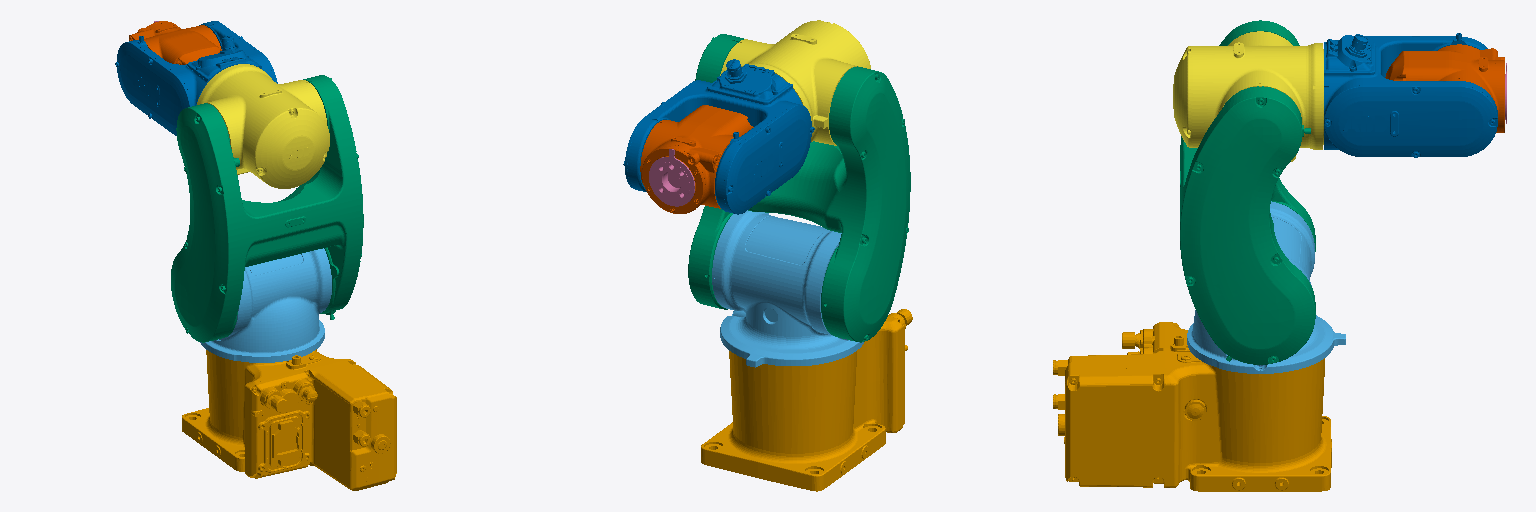
robot.urdf — IRB1010_1.5kg-370:
<?xml version="1.0" ?>
<robot name="IRB1010_1.5kg-370">

<link name="base_link">
  <inertial>
    <origin xyz="0.007414978279902329 -0.0483132373536217 0.05950830185044145" rpy="0 0 0"/>
    <mass value="20.582962138924515"/>
    <inertia ixx="0.107334" iyy="0.048566" izz="0.105477" ixy="0.014261" iyz="0.000746" ixz="0.000141"/>
  </inertial>
  <visual>
    <origin xyz="0 0 0" rpy="0 0 0"/>
    <geometry>
      <mesh filename="package://IRB1010_1.5kg-370_description/meshes/base_link.stl" scale="0.001 0.001 0.001"/>
    </geometry>
    <material name="silver"/>
  </visual>
  <collision>
    <origin xyz="0 0 0" rpy="0 0 0"/>
    <geometry>
      <mesh filename="package://IRB1010_1.5kg-370_description/meshes/base_link.stl" scale="0.001 0.001 0.001"/>
    </geometry>
  </collision>
</link>

<link name="link_1_1">
  <inertial>
    <origin xyz="-0.00024503574590826625 -0.002583028745339163 0.052650029534533266" rpy="0 0 0"/>
    <mass value="9.047546395498204"/>
    <inertia ixx="0.015477" iyy="0.01918" izz="0.016762" ixy="2.4e-05" iyz="-0.000571" ixz="9.9e-05"/>
  </inertial>
  <visual>
    <origin xyz="-0.0 -0.0 -0.123" rpy="0 0 0"/>
    <geometry>
      <mesh filename="package://IRB1010_1.5kg-370_description/meshes/link_1_1.stl" scale="0.001 0.001 0.001"/>
    </geometry>
    <material name="silver"/>
  </visual>
  <collision>
    <origin xyz="-0.0 -0.0 -0.123" rpy="0 0 0"/>
    <geometry>
      <mesh filename="package://IRB1010_1.5kg-370_description/meshes/link_1_1.stl" scale="0.001 0.001 0.001"/>
    </geometry>
  </collision>
</link>

<link name="link_2_1">
  <inertial>
    <origin xyz="0.05849881579894817 -0.02078814771909749 0.07983472523577334" rpy="0 0 0"/>
    <mass value="14.853907261172468"/>
    <inertia ixx="0.072736" iyy="0.128501" izz="0.079727" ixy="3.1e-05" iyz="0.002707" ixz="-0.000418"/>
  </inertial>
  <visual>
    <origin xyz="0.0587 -0.0 -0.19" rpy="0 0 0"/>
    <geometry>
      <mesh filename="package://IRB1010_1.5kg-370_description/meshes/link_2_1.stl" scale="0.001 0.001 0.001"/>
    </geometry>
    <material name="silver"/>
  </visual>
  <collision>
    <origin xyz="0.0587 -0.0 -0.19" rpy="0 0 0"/>
    <geometry>
      <mesh filename="package://IRB1010_1.5kg-370_description/meshes/link_2_1.stl" scale="0.001 0.001 0.001"/>
    </geometry>
  </collision>
</link>

<link name="link_3_1">
  <inertial>
    <origin xyz="-0.06095361971698747 -0.006982971041224326 -0.00021860314485278032" rpy="0 0 0"/>
    <mass value="8.779035232978092"/>
    <inertia ixx="0.016453" iyy="0.012623" izz="0.019253" ixy="-1.7e-05" iyz="4.3e-05" ixz="1.6e-05"/>
  </inertial>
  <visual>
    <origin xyz="-0.0608 -0.0 -0.375" rpy="0 0 0"/>
    <geometry>
      <mesh filename="package://IRB1010_1.5kg-370_description/meshes/link_3_1.stl" scale="0.001 0.001 0.001"/>
    </geometry>
    <material name="silver"/>
  </visual>
  <collision>
    <origin xyz="-0.0608 -0.0 -0.375" rpy="0 0 0"/>
    <geometry>
      <mesh filename="package://IRB1010_1.5kg-370_description/meshes/link_3_1.stl" scale="0.001 0.001 0.001"/>
    </geometry>
  </collision>
</link>

<link name="link_4_1">
  <inertial>
    <origin xyz="0.00124114839469878 0.05600882688570899 0.0017302844145893337" rpy="0 0 0"/>
    <mass value="5.919741496574066"/>
    <inertia ixx="0.013488" iyy="0.011685" izz="0.019333" ixy="-0.000232" iyz="0.000248" ixz="1e-06"/>
  </inertial>
  <visual>
    <origin xyz="-0.0 -0.0553 -0.375" rpy="0 0 0"/>
    <geometry>
      <mesh filename="package://IRB1010_1.5kg-370_description/meshes/link_4_1.stl" scale="0.001 0.001 0.001"/>
    </geometry>
    <material name="silver"/>
  </visual>
  <collision>
    <origin xyz="-0.0 -0.0553 -0.375" rpy="0 0 0"/>
    <geometry>
      <mesh filename="package://IRB1010_1.5kg-370_description/meshes/link_4_1.stl" scale="0.001 0.001 0.001"/>
    </geometry>
  </collision>
</link>

<link name="link_5_1">
  <inertial>
    <origin xyz="0.03963987652528898 -0.012652257482868745 0.00014144085383144267" rpy="0 0 0"/>
    <mass value="3.9451158074034915"/>
    <inertia ixx="0.004666" iyy="0.003309" izz="0.00489" ixy="-2.3e-05" iyz="-2.3e-05" ixz="1.6e-05"/>
  </inertial>
  <visual>
    <origin xyz="0.0405 -0.185 -0.375" rpy="0 0 0"/>
    <geometry>
      <mesh filename="package://IRB1010_1.5kg-370_description/meshes/link_5_1.stl" scale="0.001 0.001 0.001"/>
    </geometry>
    <material name="silver"/>
  </visual>
  <collision>
    <origin xyz="0.0405 -0.185 -0.375" rpy="0 0 0"/>
    <geometry>
      <mesh filename="package://IRB1010_1.5kg-370_description/meshes/link_5_1.stl" scale="0.001 0.001 0.001"/>
    </geometry>
  </collision>
</link>

<link name="link_6_1">
  <inertial>
    <origin xyz="-9.780505496374406e-15 -0.0032215722071038955 -2.4780057653162046e-05" rpy="0 0 0"/>
    <mass value="0.18055793093363143"/>
    <inertia ixx="2.8e-05" iyy="4.4e-05" izz="2.8e-05" ixy="0.0" iyz="-0.0" ixz="0.0"/>
  </inertial>
  <visual>
    <origin xyz="-0.0 -0.2233 -0.375" rpy="0 0 0"/>
    <geometry>
      <mesh filename="package://IRB1010_1.5kg-370_description/meshes/link_6_1.stl" scale="0.001 0.001 0.001"/>
    </geometry>
    <material name="silver"/>
  </visual>
  <collision>
    <origin xyz="-0.0 -0.2233 -0.375" rpy="0 0 0"/>
    <geometry>
      <mesh filename="package://IRB1010_1.5kg-370_description/meshes/link_6_1.stl" scale="0.001 0.001 0.001"/>
    </geometry>
  </collision>
</link>

<joint name="j1" type="continuous">
  <origin xyz="0.0 0.0 0.123" rpy="0 0 0"/>
  <parent link="base_link"/>
  <child link="link_1_1"/>
  <axis xyz="0.0 0.0 -1.0"/>
</joint>

<joint name="j2" type="continuous">
  <origin xyz="-0.0587 0.0 0.067" rpy="0 0 0"/>
  <parent link="link_1_1"/>
  <child link="link_2_1"/>
  <axis xyz="-1.0 0.0 0.0"/>
</joint>

<joint name="j3" type="continuous">
  <origin xyz="0.1195 0.0 0.185" rpy="0 0 0"/>
  <parent link="link_2_1"/>
  <child link="link_3_1"/>
  <axis xyz="-1.0 0.0 0.0"/>
</joint>

<joint name="j4" type="continuous">
  <origin xyz="-0.0608 0.0553 0.0" rpy="0 0 0"/>
  <parent link="link_3_1"/>
  <child link="link_4_1"/>
  <axis xyz="0.0 -1.0 0.0"/>
</joint>

<joint name="j5" type="continuous">
  <origin xyz="-0.0405 0.1297 0.0" rpy="0 0 0"/>
  <parent link="link_4_1"/>
  <child link="link_5_1"/>
  <axis xyz="-1.0 0.0 0.0"/>
</joint>

<joint name="j6" type="continuous">
  <origin xyz="0.0405 0.0383 0.0" rpy="0 0 0"/>
  <parent link="link_5_1"/>
  <child link="link_6_1"/>
  <axis xyz="0.0 -1.0 0.0"/>
</joint>

</robot>

--- Render facts (derived) ---
3 views of the same robot in one strip: view 1: azimuth 30°, elevation 25°; view 2: azimuth 150°, elevation 25°; view 3: azimuth 270°, elevation 25° (orthographic).
Model IRB1010_1.5kg-370 with 7 links and 6 joints (6 continuous), rooted at base_link, posed all joints at 0.
Visible links, largest first — view 1: link_2_1, base_link, link_3_1, link_1_1, link_4_1, link_5_1; view 2: link_2_1, base_link, link_1_1, link_4_1, link_3_1, link_5_1, link_6_1; view 3: base_link, link_2_1, link_4_1, link_3_1, link_1_1, link_5_1.
Boxes of the visible links, x1,y1,x2,y2 form: link_2_1: (171,75,363,342); base_link: (182,349,396,490); link_3_1: (197,64,329,188); link_1_1: (200,248,331,362); link_4_1: (115,21,277,135); link_5_1: (129,21,221,64); link_2_1: (688,34,910,342); base_link: (701,309,912,491); link_1_1: (712,210,863,367); link_4_1: (623,59,814,214); link_3_1: (720,20,870,145); link_5_1: (640,105,753,213); link_6_1: (649,149,694,206); base_link: (1053,322,1331,491); link_2_1: (1180,20,1315,364); link_4_1: (1324,33,1497,157); link_3_1: (1173,31,1323,161); link_1_1: (1187,201,1345,373); link_5_1: (1385,44,1504,132).
Bounding box of the posed robot: 0.184 × 0.4235 × 0.4429 m (x, y, z).
Meshes: 7 distinct files referenced, 7 mesh visuals loaded (7 binary STL).